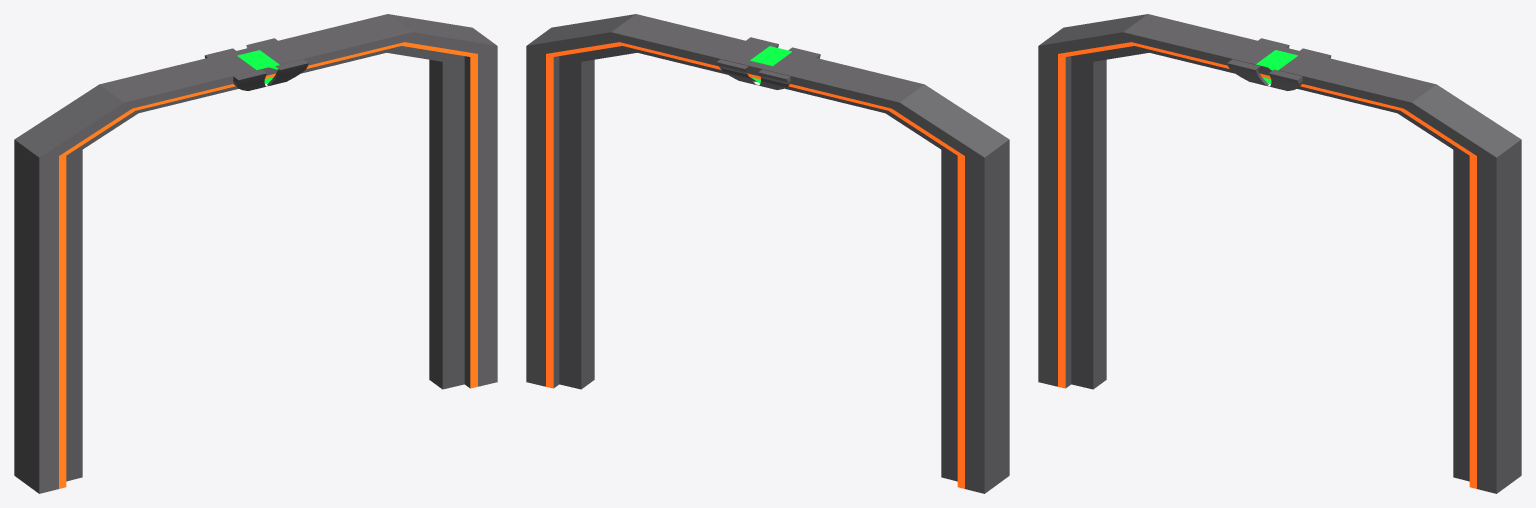
The model's file is Door_FrameFIXED.fbx.
3 views of the same model, side by side, from view 1: azimuth 30°, elevation 25°; view 2: azimuth 150°, elevation 25°; view 3: azimuth 330°, elevation 25° (orthographic).
Visible parts, largest first — view 1: Door_Frame; view 2: Door_Frame; view 3: Door_Frame.
Boxes of the visible parts, x1=… form: Door_Frame: x1=14, y1=14, x2=497, y2=493; Door_Frame: x1=526, y1=14, x2=1009, y2=493; Door_Frame: x1=1038, y1=14, x2=1521, y2=493.
Size of the model in its own units: 155 by 120 by 20.03.
